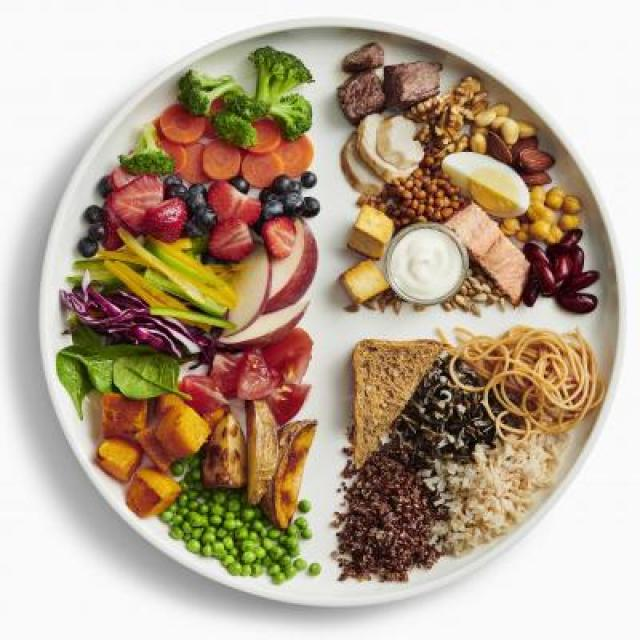Chicken: (342, 112, 422, 192)
Egg: (442, 152, 528, 218)
Fruits: (78, 168, 318, 344)
Green veg: (160, 456, 318, 582), (179, 53, 310, 147), (58, 328, 182, 410), (120, 128, 168, 173)
Non green veg: (181, 310, 310, 424), (154, 104, 312, 189)
Potato: (94, 394, 314, 526)
Rice: (421, 437, 560, 555)
